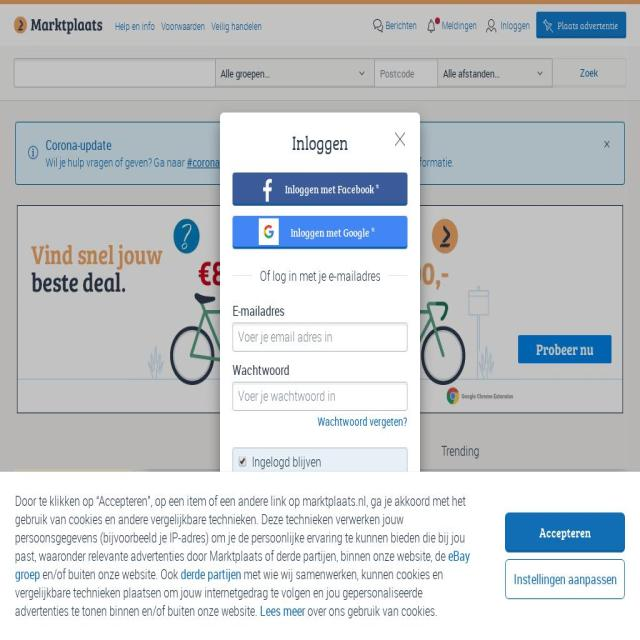button: (142, 486, 256, 640), (266, 486, 380, 640), (390, 486, 504, 640), (514, 486, 628, 640), (20, 562, 125, 620), (232, 172, 408, 206), (232, 215, 408, 249), (232, 481, 408, 515), (505, 512, 625, 552), (505, 559, 625, 599), (20, 505, 125, 549), (536, 12, 626, 38), (552, 58, 626, 88), (232, 415, 408, 427), (14, 14, 103, 36), (423, 12, 481, 38), (370, 12, 421, 38), (484, 12, 534, 38), (208, 12, 265, 33), (158, 12, 208, 33), (112, 12, 158, 33), (20, 633, 125, 640)
field: (14, 58, 216, 88), (232, 322, 408, 352), (232, 381, 408, 411), (216, 58, 374, 88), (438, 58, 553, 88), (374, 58, 438, 88), (239, 456, 247, 467)
heading: (46, 136, 594, 154), (220, 128, 420, 156), (20, 479, 125, 497), (150, 603, 249, 619), (398, 603, 497, 619), (521, 603, 620, 619), (274, 603, 372, 619)
iframe: (17, 205, 623, 413)
image: (0, 0, 640, 640), (142, 486, 256, 596), (266, 486, 380, 596), (390, 486, 504, 596), (514, 486, 628, 596), (0, 0, 640, 4), (254, 174, 275, 202), (259, 217, 279, 245), (392, 128, 408, 150)
label: (232, 446, 408, 476), (232, 302, 408, 319), (232, 361, 408, 378)
link: (15, 547, 470, 583), (181, 565, 241, 583), (329, 525, 387, 542), (260, 602, 305, 620), (187, 154, 237, 170), (354, 154, 370, 170)
text: (15, 492, 466, 565), (15, 565, 443, 620), (44, 578, 105, 621), (40, 565, 181, 583), (305, 602, 437, 620), (350, 435, 419, 469), (46, 154, 186, 170), (429, 435, 492, 469), (278, 435, 340, 469), (44, 521, 114, 550), (274, 179, 380, 198), (252, 268, 388, 282), (238, 154, 354, 170), (281, 222, 375, 241), (369, 154, 454, 170), (253, 525, 330, 542), (44, 562, 125, 576), (44, 505, 125, 518), (558, 18, 618, 32), (300, 488, 340, 508), (274, 621, 315, 640), (150, 621, 190, 640), (521, 621, 561, 640), (44, 633, 125, 640), (437, 18, 477, 32), (397, 621, 426, 640), (386, 18, 416, 32), (501, 18, 530, 32), (580, 65, 599, 80)
